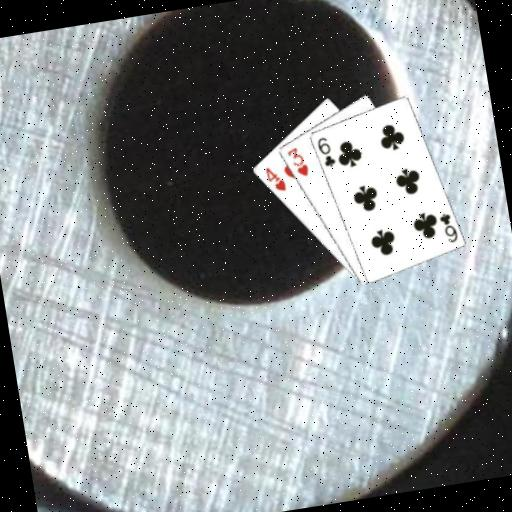3H: (283, 142, 311, 180)
4H: (261, 161, 288, 195)
6C: (313, 132, 337, 170), (435, 208, 459, 245)
